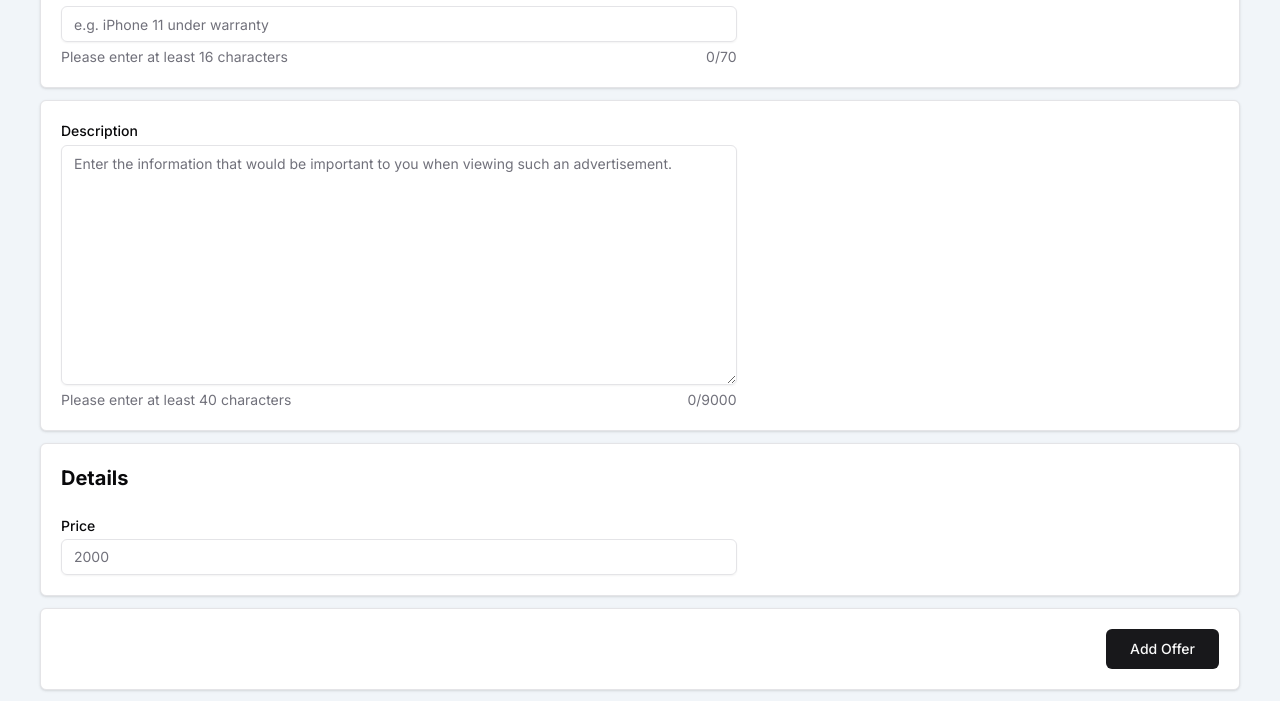
Test: Offers Page › Validation › Price › validates min number
(page scrolled)
In the number field labelled "Price": [399, 557] box [61,539,736,575], type "-1"
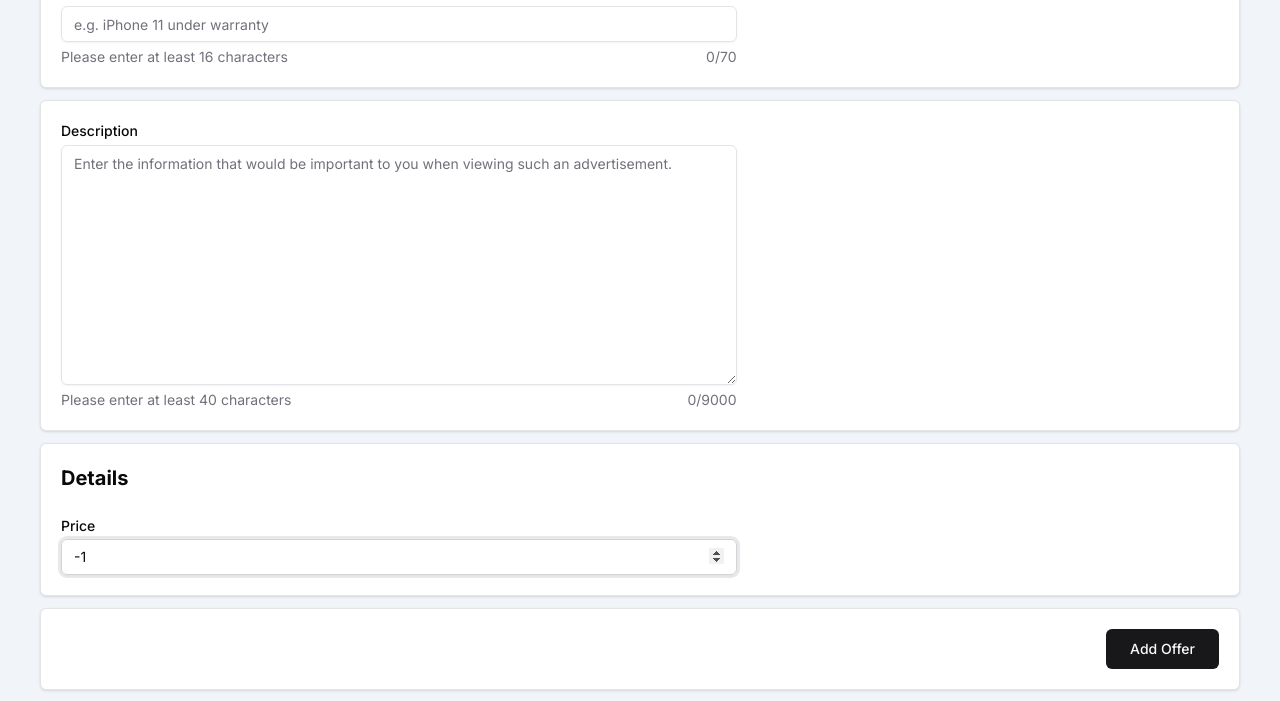
Click the button "Add Offer": [1163, 649] box [1106,629,1219,669]
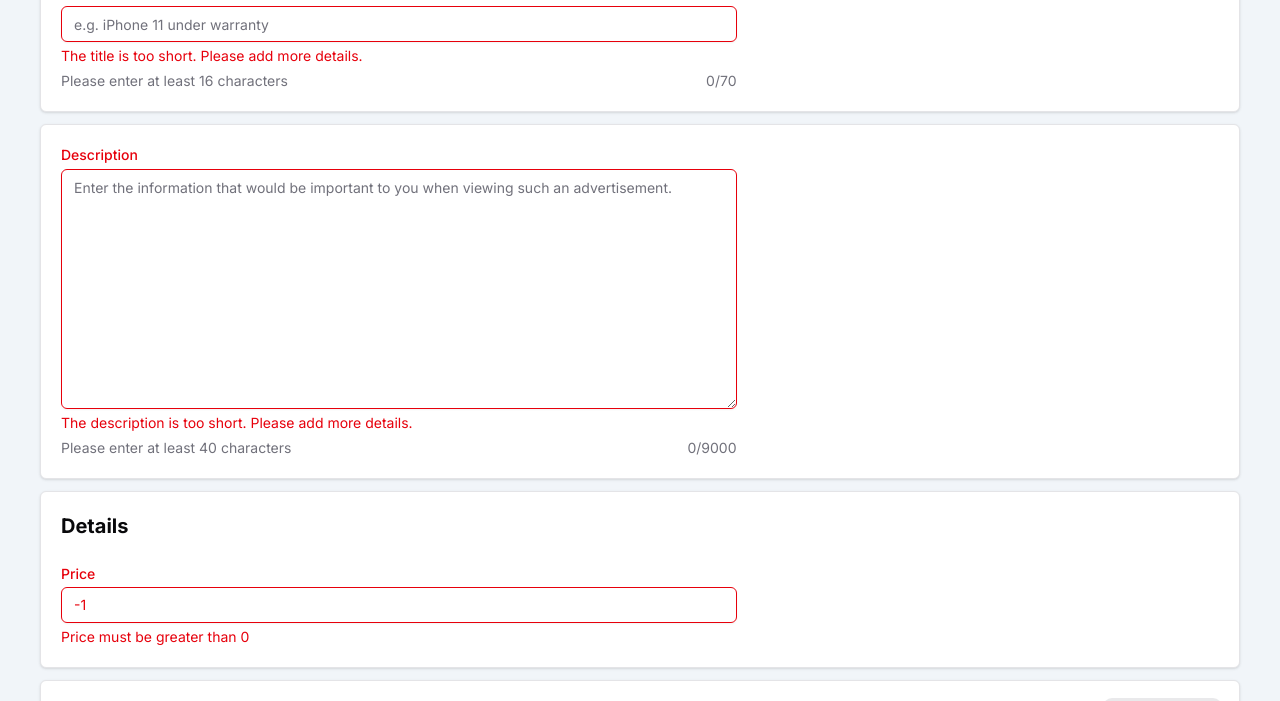
Check: the text "Price must be greater than 0" is shown, box [61,628,249,645]
